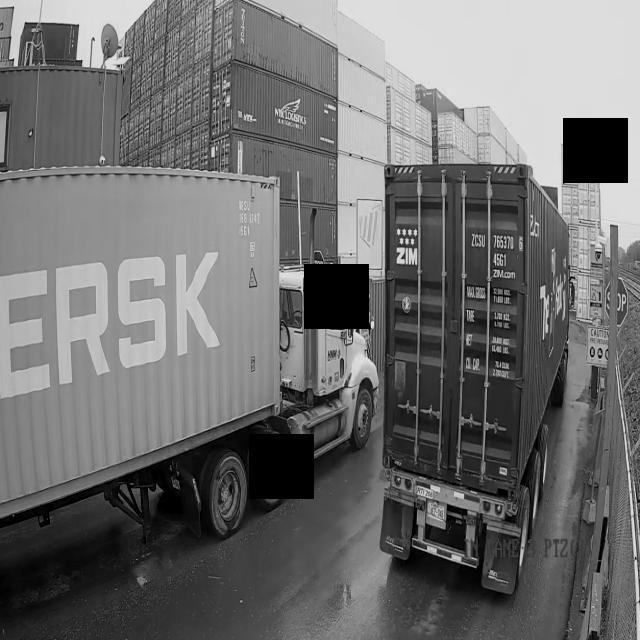container_company_logo: (393, 245, 422, 268)
container_number: (470, 229, 522, 267)
container_side_no: (236, 196, 264, 245)
license_plate: (426, 499, 450, 520)
other_container_info: (466, 282, 512, 384)
truck_with_container: (0, 166, 379, 538), (380, 165, 570, 593)
